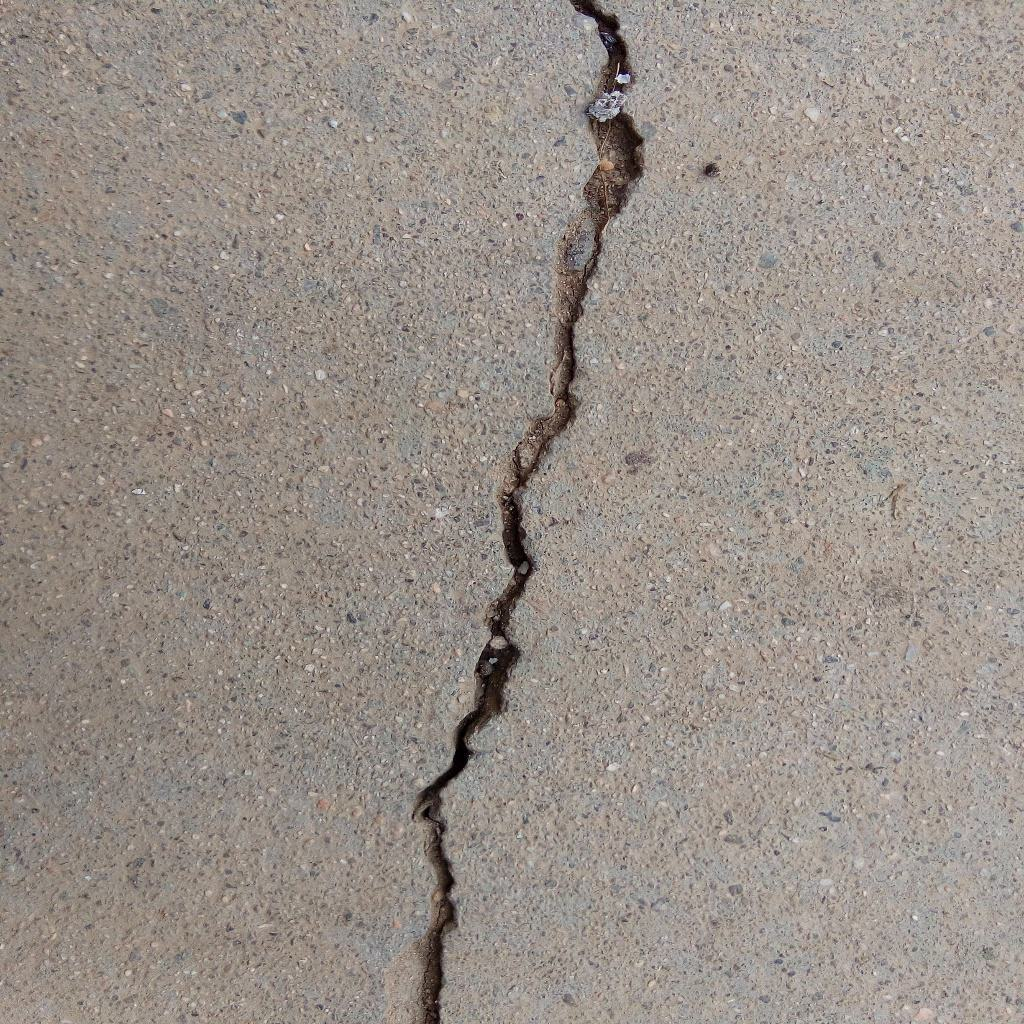Crack: (409, 1, 648, 1024)
